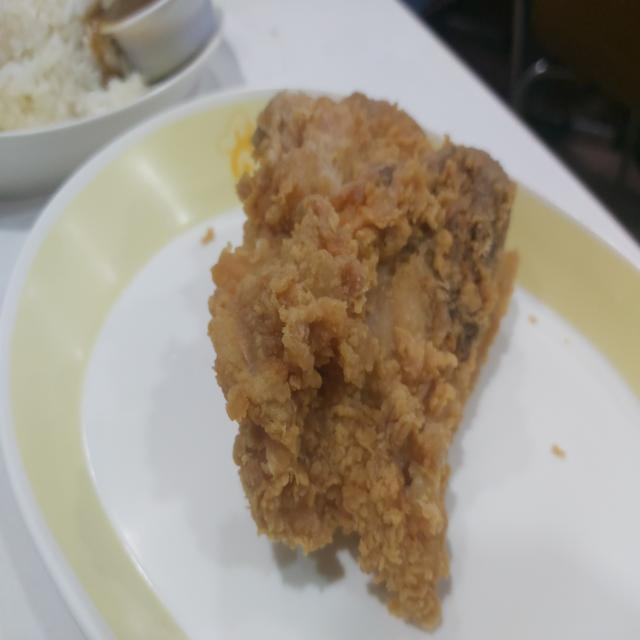Chicken -Fried Chicken-: (202, 71, 522, 637)
